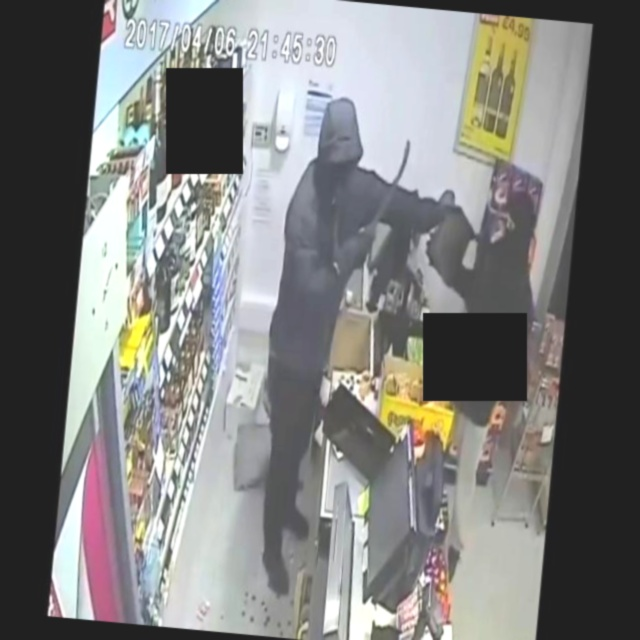gun: (350, 133, 417, 252)
